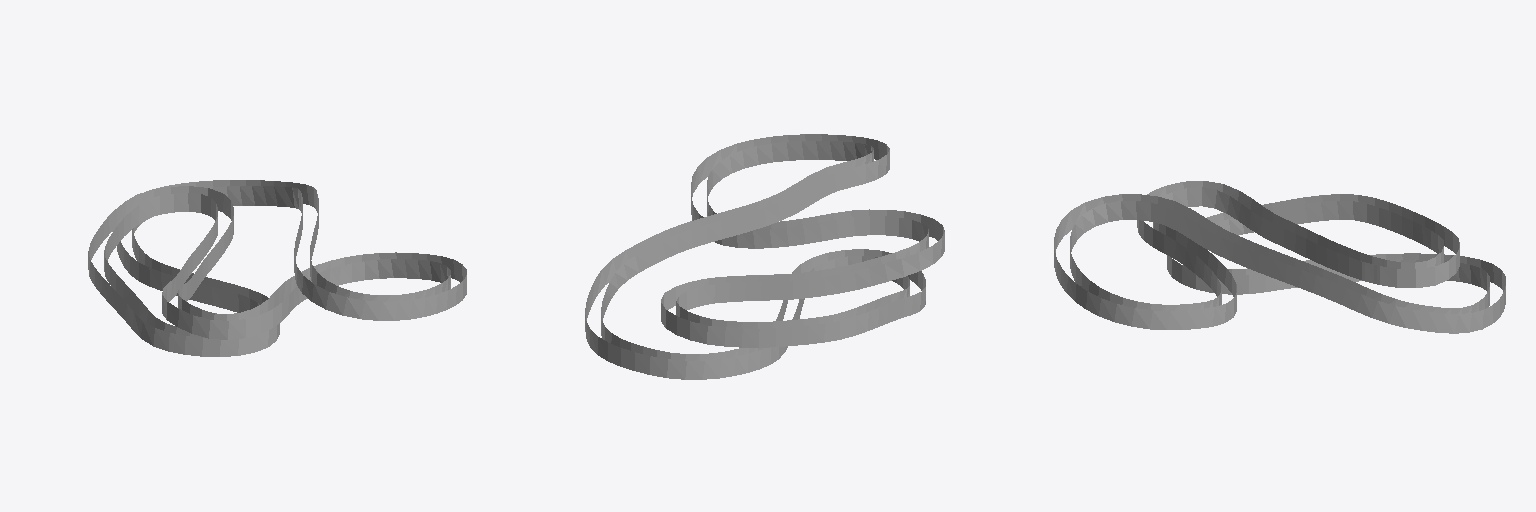
File: zz-track-collider-wall.obj
The picture shows the model from 3 angles: view 1: azimuth 30°, elevation 25°; view 2: azimuth 150°, elevation 25°; view 3: azimuth 270°, elevation 25°; orthographic projection.
Parts seen in each view (by area): view 1: WallCollider; view 2: WallCollider; view 3: WallCollider.
Part boxes in pixels (x1,y1,x2,y2): WallCollider: (88, 180, 466, 356); WallCollider: (585, 134, 944, 379); WallCollider: (1054, 181, 1505, 333).
Bounding box in the file's own units: 598 × 207 × 875.